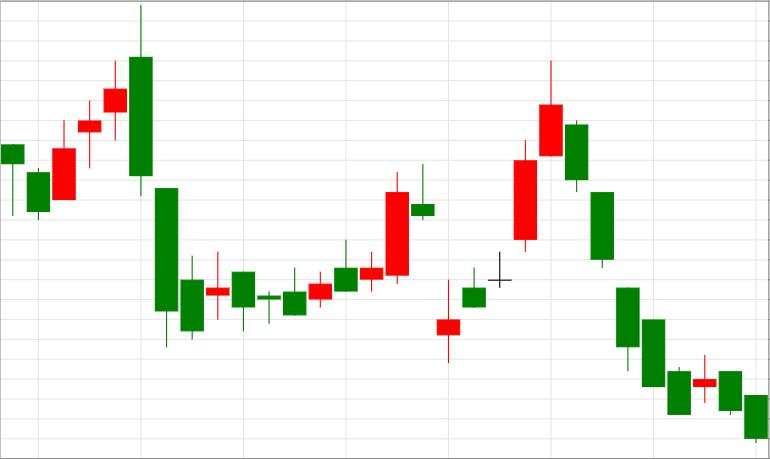bearish_engulfing_fall: (26, 4, 152, 220)
three_black_crows_fall: (437, 60, 639, 370)
